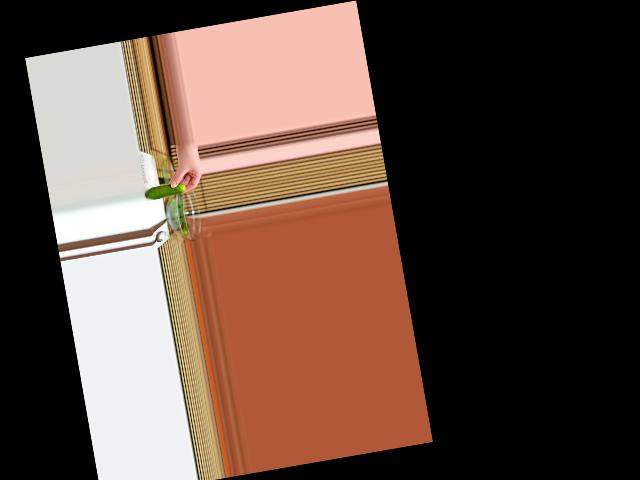cucumber: (144, 181, 186, 200)
